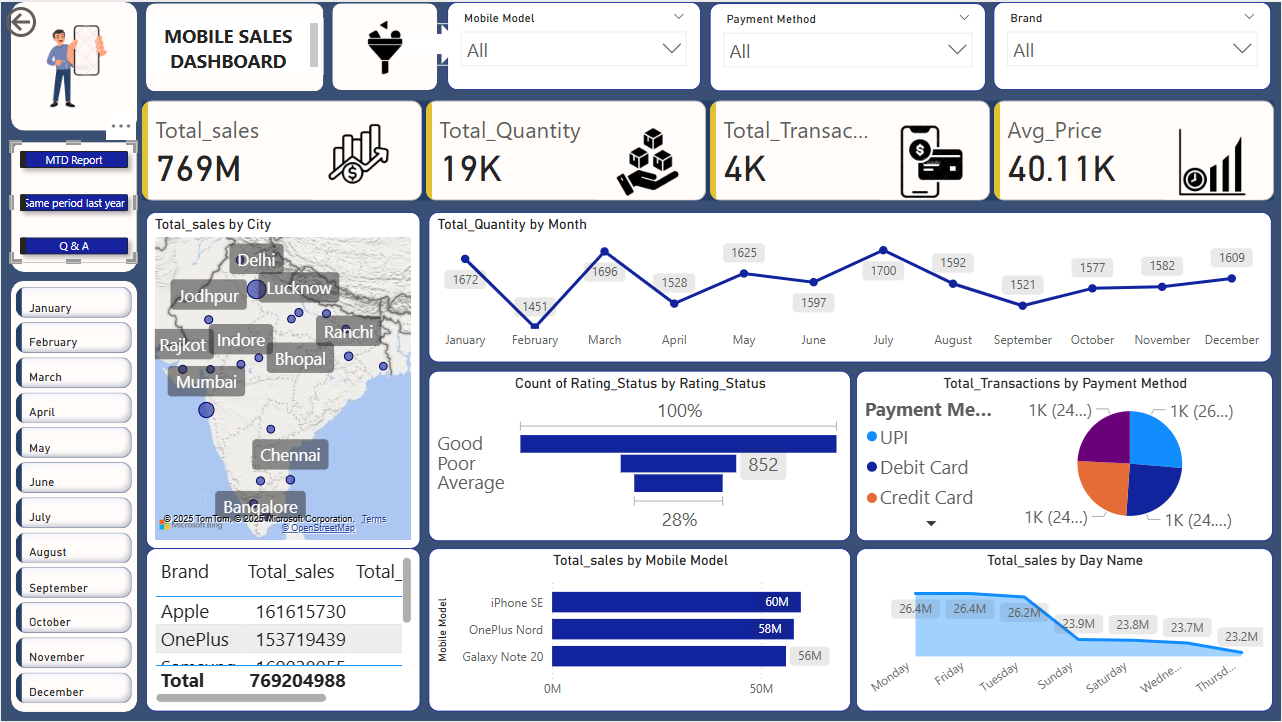

This screenshot's page, from the dashboard's own definition file:
{"tool":"powerbi","page":{"name":"Dashboard ","canvas":[1280,720],"ordinal":0},"visuals":[{"type":"shape","box":[10,0,126.2,128.8],"z":0},{"type":"image","box":[15,6.2,121.2,112.5],"z":1000},{"type":"shape","box":[10,140,126.2,130],"z":2000},{"type":"shape","box":[10,278.8,126.2,431.2],"z":3000},{"type":"advancedSlicerVisual","fields":{"Values":["Custom_Calendar.Date.Variation.Date Hierarchy.Month"]},"box":[10,280,126.2,430],"z":4000},{"type":"cardVisual","fields":{"Data":["Mobile_Sales_Data.Total_sales","Mobile_Sales_Data.Total_Quantity","Mobile_Sales_Data.Total_Transactions","Mobile_Sales_Data.Avg_Price"]},"box":[136.3,94.1,1143.7,111],"z":5000},{"type":"slicer","fields":{"Values":["Mobile_Sales_Data.Mobile Model"]},"box":[446.4,0,253.4,88.1],"z":6000},{"type":"slicer","fields":{"Values":["Mobile_Sales_Data.Brand"]},"box":[992.9,0,277.5,88.1],"z":7000},{"type":"slicer","fields":{"Values":["Mobile_Sales_Data.Payment Method"]},"box":[708.2,1.2,276.3,88.1],"z":8000},{"type":"shape","box":[331.8,1.2,105,86.9],"z":9000},{"type":"image","box":[341.4,4.8,86.9,79.6],"z":10000},{"type":"shape","box":[404.2,21.7,57.9,42.2],"z":11000},{"type":"shape","box":[144.8,1.2,177.3,88.1],"z":12000},{"type":"textbox","box":[144.8,15.7,177.3,56.7],"z":13000},{"type":"map","fields":{"Category":["Mobile_Sales_Data.City"],"Size":["Mobile_Sales_Data.Total_sales"]},"box":[145.6,210,274.4,336.7],"z":14000},{"type":"lineChart","fields":{"Y":["Mobile_Sales_Data.Total_Quantity"],"Category":["Custom_Calendar.Date.Variation.Date Hierarchy.Month"]},"box":[427.8,210,843.3,150],"z":15000},{"type":"funnel","fields":{"Category":["Mobile_Sales_Data.Rating_Status"],"Y":["CountNonNull(Mobile_Sales_Data.Rating_Status)"]},"box":[427.8,368.9,422.2,170],"z":16000},{"type":"pieChart","fields":{"Y":["Mobile_Sales_Data.Total_Transactions"],"Category":["Mobile_Sales_Data.Payment Method"]},"box":[854.4,368.9,416.7,170],"z":17000},{"type":"clusteredBarChart","fields":{"Y":["Mobile_Sales_Data.Total_sales"],"Category":["Mobile_Sales_Data.Mobile Model"]},"box":[427.8,546.7,422.2,163.3],"z":18000},{"type":"areaChart","fields":{"Category":["Custom_Calendar.Day Name"],"Y":["Mobile_Sales_Data.Total_sales"]},"box":[854.4,546.7,416.7,163.3],"z":19000},{"type":"tableEx","fields":{"Values":["Mobile_Sales_Data.Brand","Mobile_Sales_Data.Total_sales","Mobile_Sales_Data.Total_Transactions"]},"box":[145.6,546.7,274.4,163.3],"z":20000},{"type":"actionButton","box":[0,0,100,40],"z":21000},{"type":"pageNavigator","box":[10,140,126.2,121.2],"z":22000}]}

Visuals, with their boxes in screenshot pixels (x1, y1, x2, y2), scaled from the page's 1280x720 canvas onto the 1282x722 screenshot:
shape: 10, 0, 136, 129
image: 15, 6, 136, 119
shape: 10, 140, 136, 271
shape: 10, 280, 136, 712
advancedSlicerVisual - Custom_Calendar.Date.Variation.Date Hierarchy.Month: 10, 281, 136, 712
cardVisual - Mobile_Sales_Data.Total_sales x Mobile_Sales_Data.Total_Quantity: 137, 94, 1281, 206
slicer - Mobile_Sales_Data.Mobile Model: 447, 0, 701, 88
slicer - Mobile_Sales_Data.Brand: 994, 0, 1272, 88
slicer - Mobile_Sales_Data.Payment Method: 709, 1, 986, 90
shape: 332, 1, 437, 88
image: 342, 5, 429, 85
shape: 405, 22, 463, 64
shape: 145, 1, 323, 90
textbox: 145, 16, 323, 73
map - Mobile_Sales_Data.City x Mobile_Sales_Data.Total_sales: 146, 211, 421, 548
lineChart - Mobile_Sales_Data.Total_Quantity x Custom_Calendar.Date.Variation.Date Hierarchy.Month: 428, 211, 1273, 361
funnel - Mobile_Sales_Data.Rating_Status x CountNonNull(Mobile_Sales_Data.Rating_Status): 428, 370, 851, 540
pieChart - Mobile_Sales_Data.Total_Transactions x Mobile_Sales_Data.Payment Method: 856, 370, 1273, 540
clusteredBarChart - Mobile_Sales_Data.Total_sales x Mobile_Sales_Data.Mobile Model: 428, 548, 851, 712
areaChart - Custom_Calendar.Day Name x Mobile_Sales_Data.Total_sales: 856, 548, 1273, 712
tableEx - Mobile_Sales_Data.Brand x Mobile_Sales_Data.Total_sales: 146, 548, 421, 712
actionButton: 0, 0, 100, 40
pageNavigator: 10, 140, 136, 262
